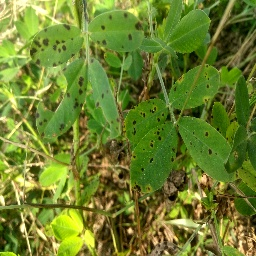GroundNut_Leaf: (180, 114, 235, 182), (35, 71, 85, 142), (131, 123, 178, 190), (88, 59, 120, 137), (170, 64, 220, 111), (89, 11, 142, 54), (29, 25, 83, 67), (169, 7, 212, 55), (47, 208, 83, 240), (238, 137, 254, 185), (132, 101, 166, 121), (237, 77, 248, 131), (36, 166, 62, 187), (125, 57, 144, 80), (1, 38, 14, 59)
